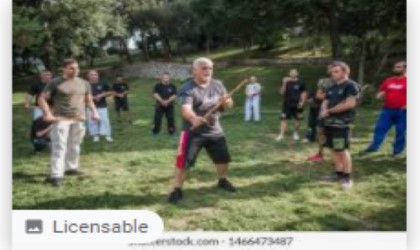baston_e: (208, 82, 238, 119)
baston_v: (241, 75, 251, 86), (186, 123, 197, 133)
